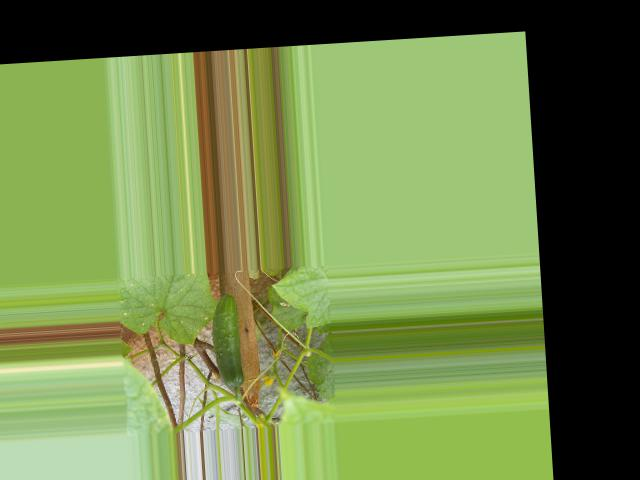cucumber: (210, 293, 245, 389)
